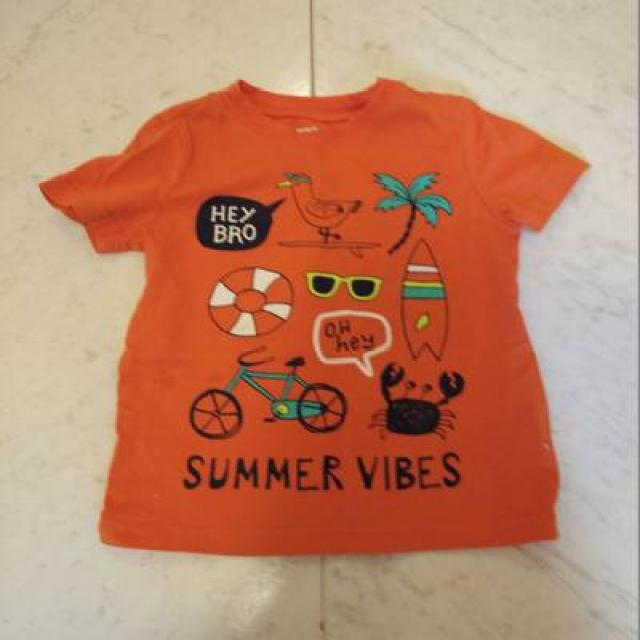Clothes -Biodegradable-: (39, 74, 588, 551)
